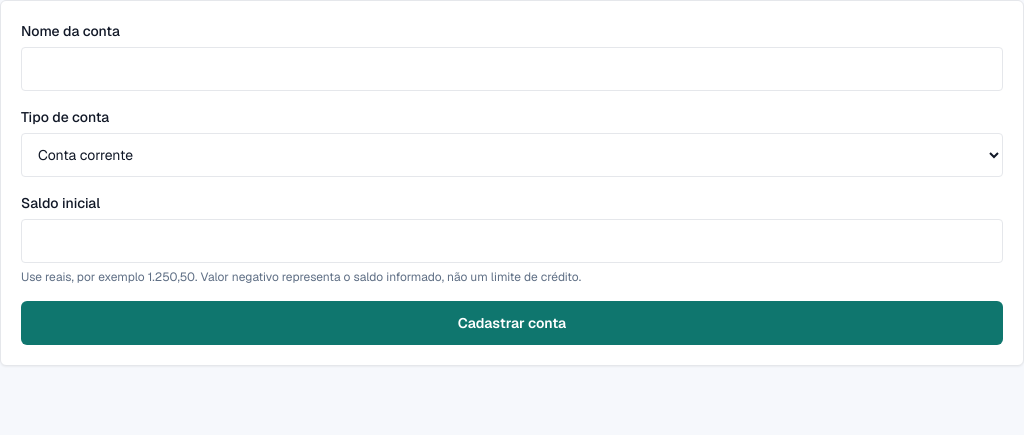
AccountForm › announces errors returned by the account flow
The width and height of the screenshot is (1024, 435).
Type "Conta principal" into the field labelled "Nome da conta" at [512, 69], box [21,47,1003,91]
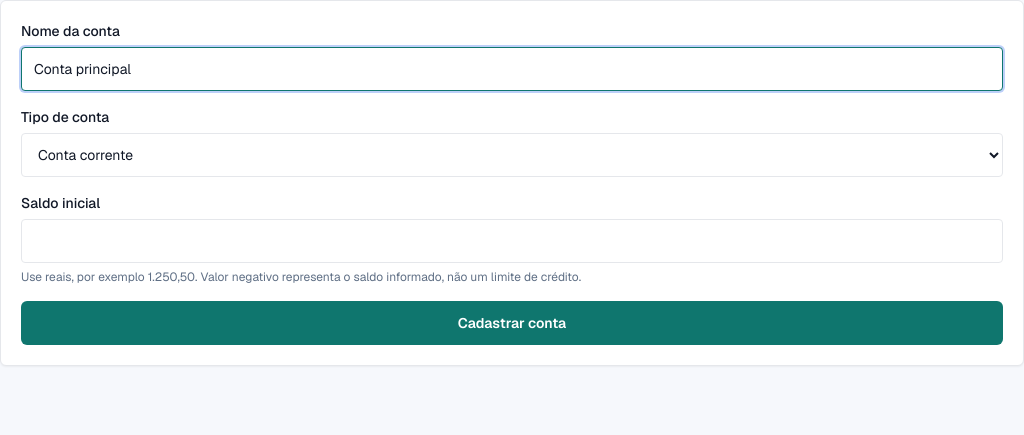
Select "Conta corrente" in the dropdown labelled "Tipo de conta" at [512, 155], box [21,133,1003,177]
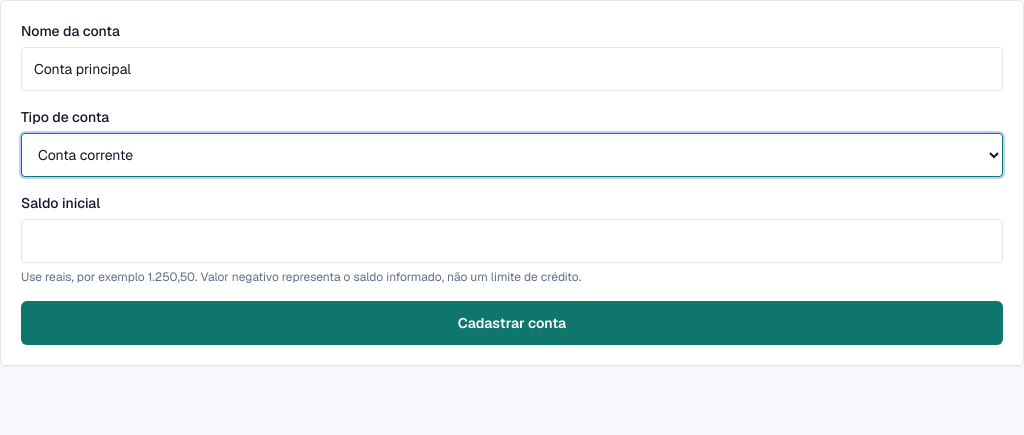
Type "1.250,50" into the field labelled "Saldo inicial" at [512, 241], box [21,219,1003,263]
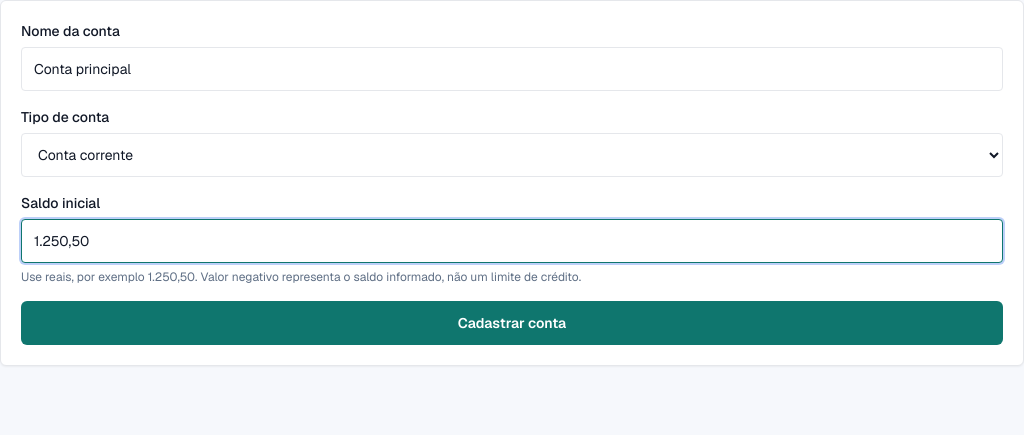
Click the button "Cadastrar conta" at [512, 323], box [21,301,1003,345]
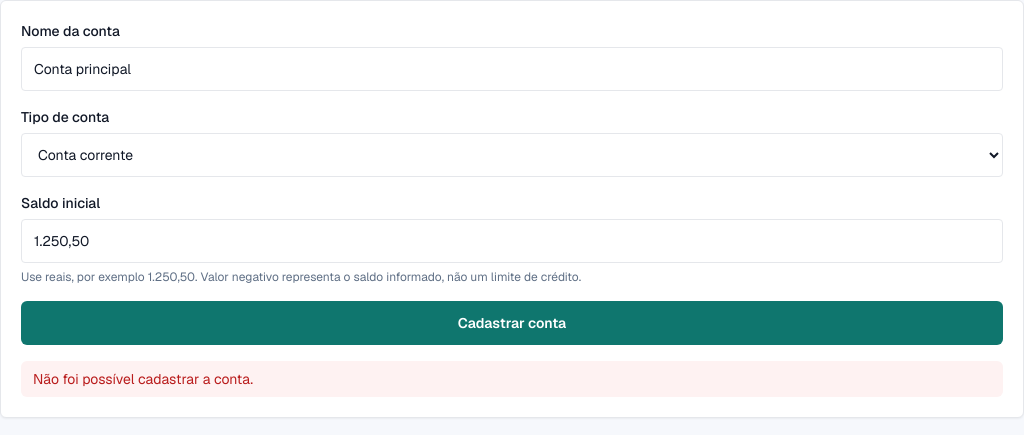
Result: the message reads "Não foi possível cadastrar a conta." at [33,370,253,388]
